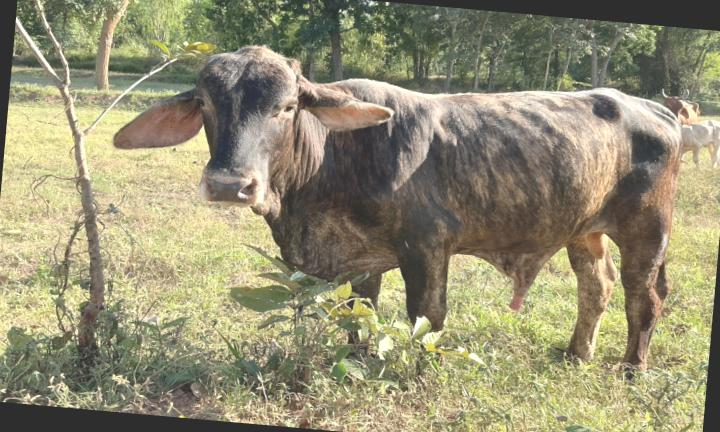Charolais: (113, 46, 681, 369)
